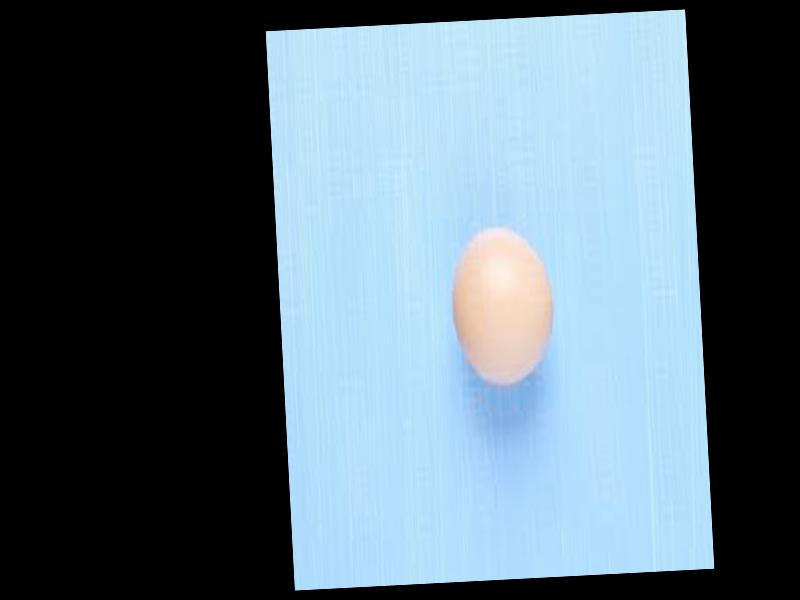Eggs: (449, 222, 556, 392)
